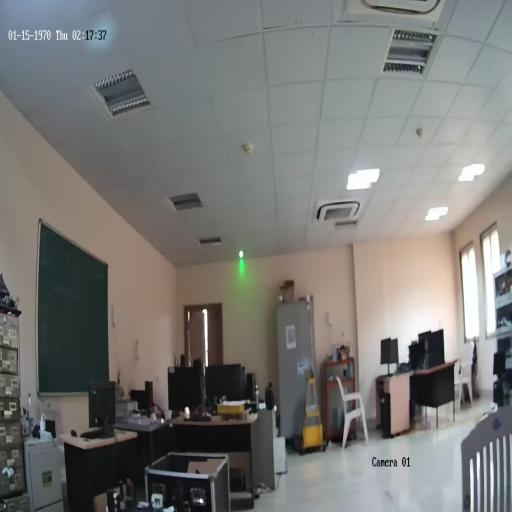laser: (239, 249, 244, 259)
